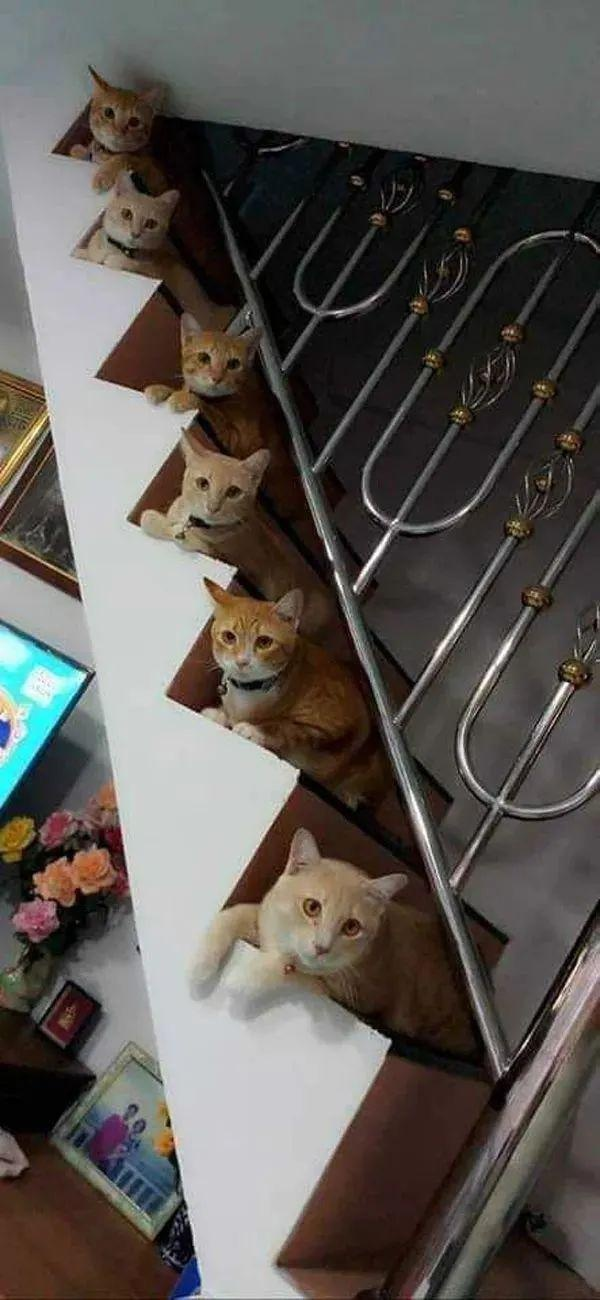cat: (185, 825, 476, 1053), (200, 576, 380, 812), (138, 428, 331, 637), (75, 169, 238, 330), (146, 312, 270, 458), (69, 63, 175, 200)
